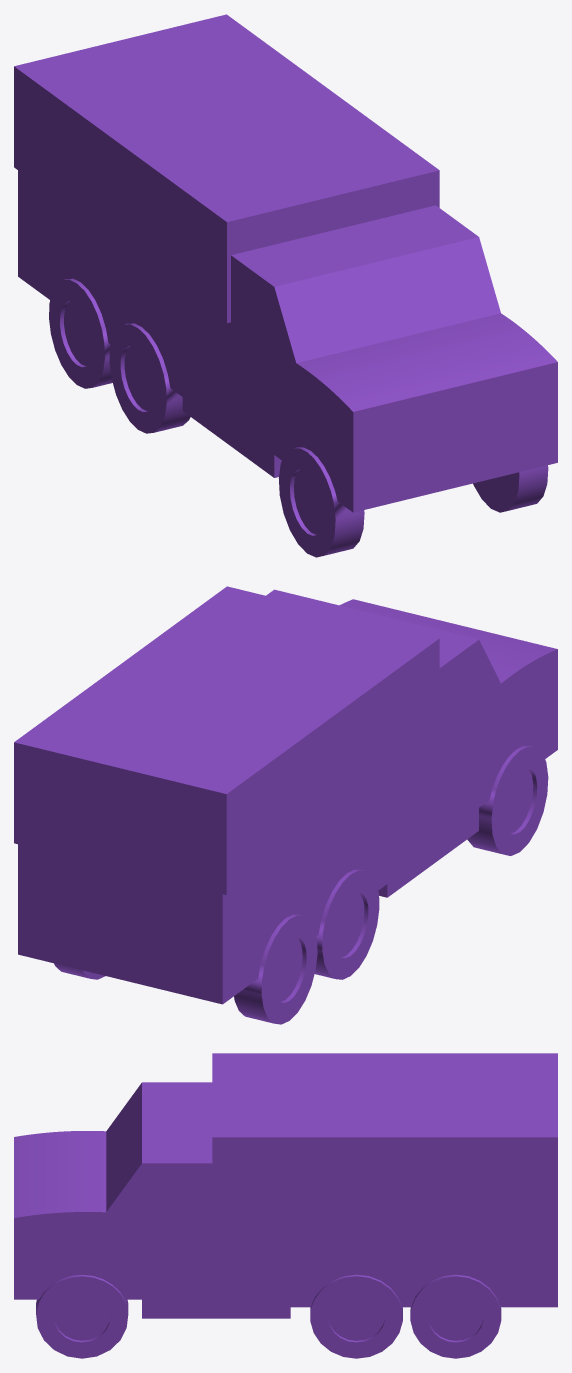
File: Boardgame_Troop_Triple_Token_Purple_01.fbx
3 views of the same model, one above another, from view 1: azimuth 30°, elevation 25°; view 2: azimuth 150°, elevation 25°; view 3: azimuth 270°, elevation 25° (orthographic). The views are drawn at different scales.
Parts seen in each view (by area): view 1: Model; view 2: Model; view 3: Model.
Boxes of the visible parts, x1,y1,x2,y2 form: Model: [14, 14, 557, 557]; Model: [14, 586, 557, 1024]; Model: [14, 1053, 557, 1358].
Size of the model in its own units: 126 by 154 by 343.
